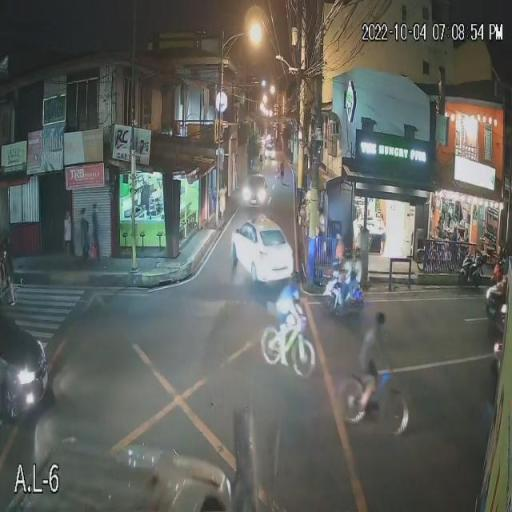helmet: (342, 248, 354, 261)
motorcycle: (321, 281, 366, 313)
rider: (348, 262, 363, 303), (340, 263, 352, 313)
